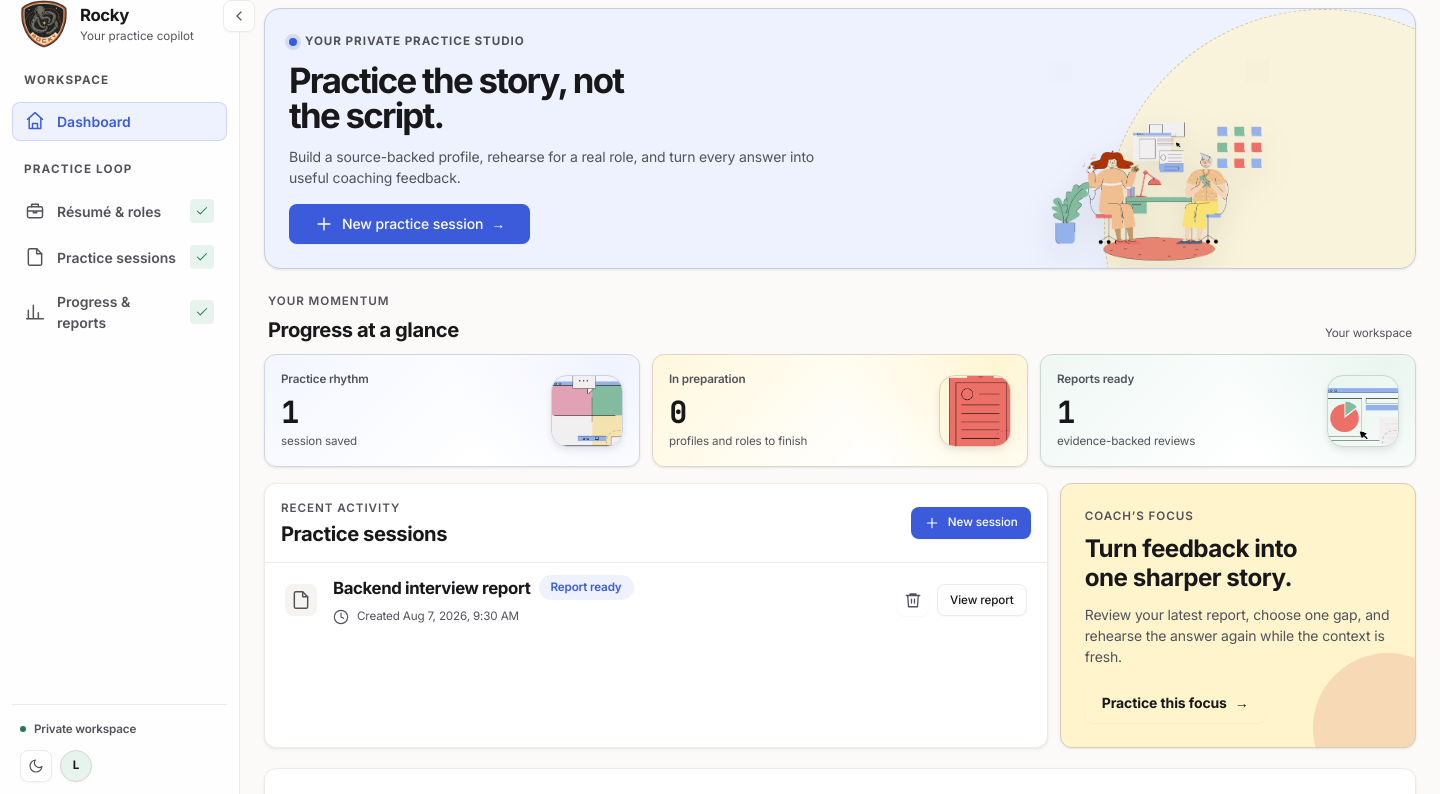
report navigation › opens a ready evidence report from the session dashboard
The width and height of the screenshot is (1440, 794).
Click the button "View report". click: click(982, 600)
box: [937, 584, 1027, 616]
(page scrolled)
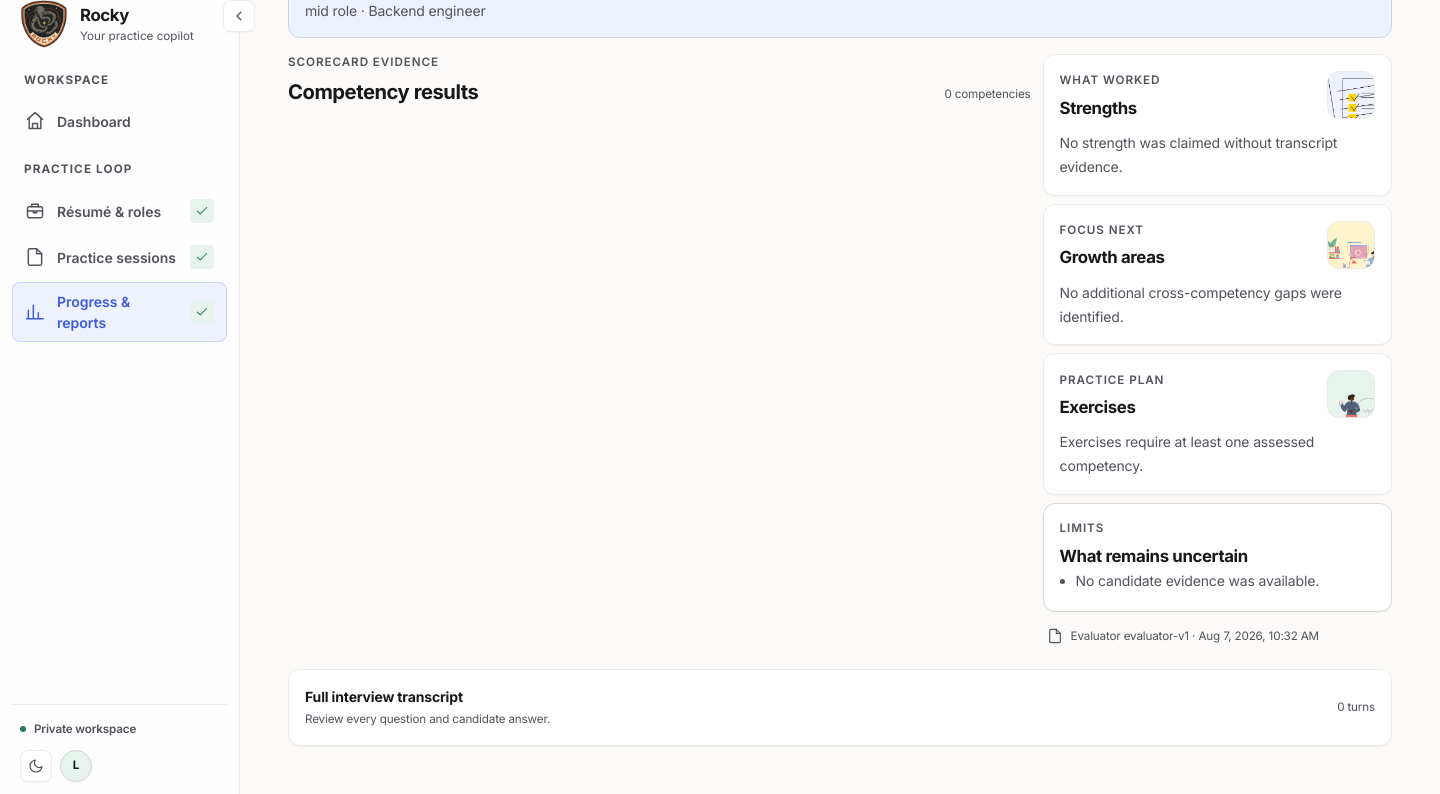
Check: the list item "No candidate evidence was available." is shown, box [1076, 572, 1319, 589]
